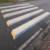zebra: (1, 3, 49, 38)
